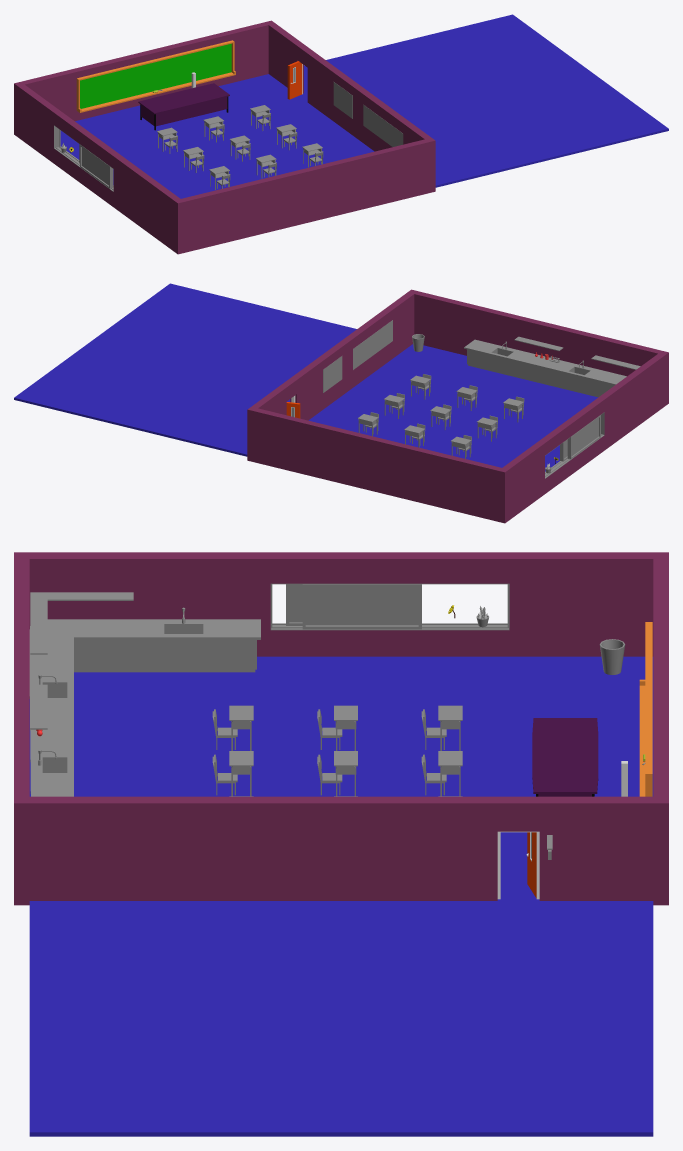
File: EverythingSoFar.FBX
3 views of the same model, one above another, from view 1: azimuth 30°, elevation 25°; view 2: azimuth 150°, elevation 25°; view 3: azimuth 270°, elevation 25° (orthographic). The views are drawn at different scales.
Visible parts, largest first — view 1: Ground2, Ground1, Walls1, Walls3, Walls4, Walls2, Board, TeacherDesk, Box016, Door, WindowGlass, Box015 (+1 smaller); view 2: Ground2, Ground1, Walls2, Walls3, Walls1, Walls4, LabItself, Box016, WindowGlass, Box015; view 3: Ground2, Ground1, Walls4, Walls3, LabItself, TeacherDesk, WindowGlass2, Walls1, Walls2, Board, GlassHolder2, WindwoSlider (+1 smaller).
Part boxes in pixels (left/top/right/bottom): Ground2: left=299, top=14, right=668, bottom=187; Ground1: left=60, top=74, right=374, bottom=198; Walls1: left=181, top=139, right=428, bottom=252; Walls3: left=14, top=82, right=184, bottom=254; Walls4: left=265, top=20, right=435, bottom=192; Walls2: left=21, top=22, right=268, bottom=121; Board: left=76, top=40, right=235, bottom=112; TeacherDesk: left=138, top=83, right=229, bottom=130; Box016: left=363, top=104, right=403, bottom=146; Door: left=287, top=61, right=302, bottom=99; WindowGlass: left=82, top=148, right=108, bottom=185; Box015: left=333, top=82, right=352, bottom=118; Ground2: left=14, top=283, right=356, bottom=456; Ground1: left=308, top=344, right=597, bottom=471; Walls2: left=254, top=408, right=501, bottom=521; Walls3: left=498, top=351, right=668, bottom=523; Walls1: left=414, top=291, right=661, bottom=376; Walls4: left=247, top=289, right=417, bottom=461; LabItself: left=464, top=339, right=626, bottom=397; Box016: left=353, top=320, right=392, bottom=369; WindowGlass: left=571, top=418, right=598, bottom=455; Box015: left=323, top=356, right=342, bottom=392; Ground2: left=29, top=894, right=653, bottom=1136; Ground1: left=29, top=656, right=653, bottom=894; Walls4: left=14, top=796, right=668, bottom=905; Walls3: left=14, top=552, right=668, bottom=656; LabItself: left=29, top=619, right=260, bottom=796; TeacherDesk: left=532, top=718, right=598, bottom=796; WindowGlass2: left=305, top=587, right=418, bottom=625; Walls1: left=14, top=559, right=29, bottom=796; Walls2: left=653, top=559, right=668, bottom=796; Board: left=639, top=622, right=652, bottom=796; GlassHolder2: left=30, top=592, right=133, bottom=654; WindwoSlider: left=270, top=583, right=509, bottom=630.
Bounding box in the file's own units: 35.31 × 3.48 × 20.26.
